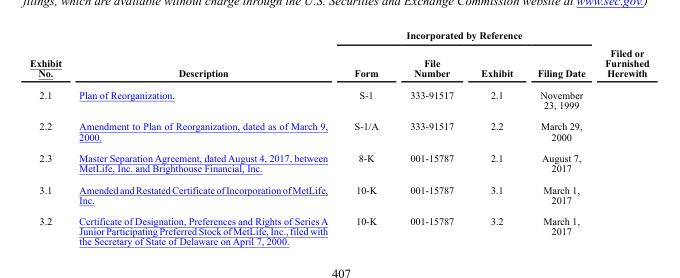table: (28, 29, 648, 246)
table column: (69, 29, 340, 246), (393, 29, 466, 246), (524, 29, 594, 246), (466, 29, 524, 246), (594, 29, 648, 246), (340, 29, 393, 246), (28, 29, 69, 246)
table column header: (28, 29, 648, 83)
table row: (28, 210, 648, 246), (28, 48, 648, 83), (28, 83, 648, 115), (28, 146, 648, 178), (28, 178, 648, 210), (28, 115, 648, 146), (28, 29, 648, 48)
table spanning cell: (69, 29, 340, 83), (340, 29, 594, 48), (594, 29, 648, 83), (28, 29, 69, 83)
